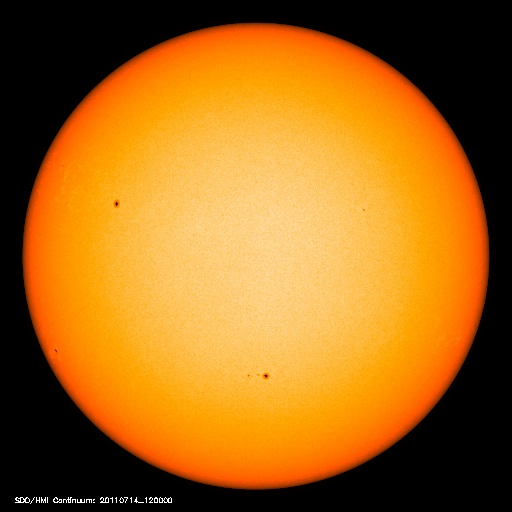sunspot: (238, 364, 280, 389), (99, 190, 131, 219), (46, 339, 66, 363)
